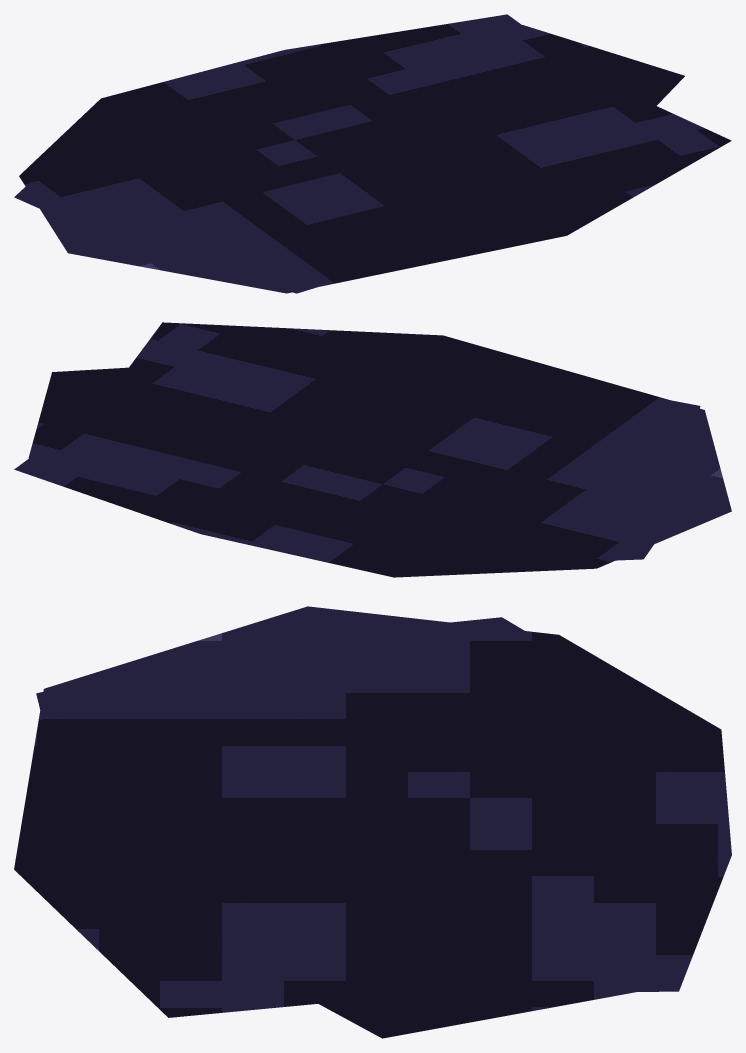
Rendered from cytech.puddle.glb.
The picture shows the model from 3 angles, top to bottom: view 1: azimuth 30°, elevation 25°; view 2: azimuth 150°, elevation 25°; view 3: azimuth 270°, elevation 25°; orthographic projection. The views are drawn at different scales.
Visible parts, largest first — view 1: kit_card_water; view 2: kit_card_water; view 3: kit_card_water.
Part boxes in pixels (bbox=[...]): kit_card_water: bbox=[14, 14, 731, 293]; kit_card_water: bbox=[14, 322, 731, 577]; kit_card_water: bbox=[14, 606, 731, 1038].
Size of the model in its own units: 1.55 by 0.0005 by 1.09.
1 material, 1 textured.
